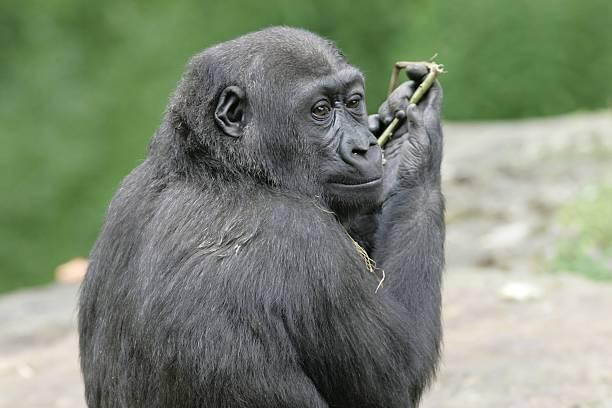gorille_Autres: (91, 0, 481, 408)
